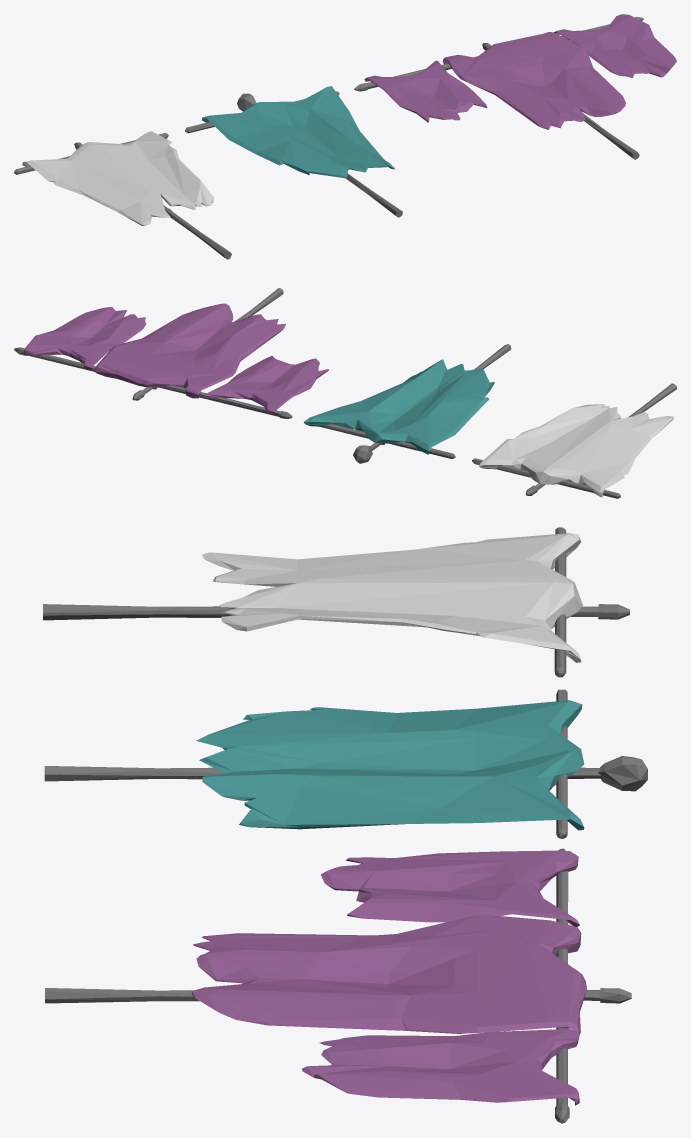
The model's file is flag.FBX.
The picture shows the model from 3 angles, top to bottom: view 1: azimuth 30°, elevation 25°; view 2: azimuth 150°, elevation 25°; view 3: azimuth 270°, elevation 25°; orthographic projection. The views are drawn at different scales.
Parts seen in each view (by area): view 1: Flag-one, Flag_three, Flag_two; view 2: Flag-one, Flag_three, Flag_two; view 3: Flag-one, Flag_two, Flag_three.
Boxes of the visible parts, x1,y1,x2,y2 form: Flag-one: (354,14,676,159); Flag_three: (14,131,231,259); Flag_two: (185,86,402,217); Flag-one: (14,288,328,419); Flag_three: (472,383,676,498); Flag_two: (304,344,511,463); Flag-one: (45,848,631,1123); Flag_two: (44,689,647,838); Flag_three: (43,527,629,677).
Size of the model in its own units: 354 by 13.29 by 153.
